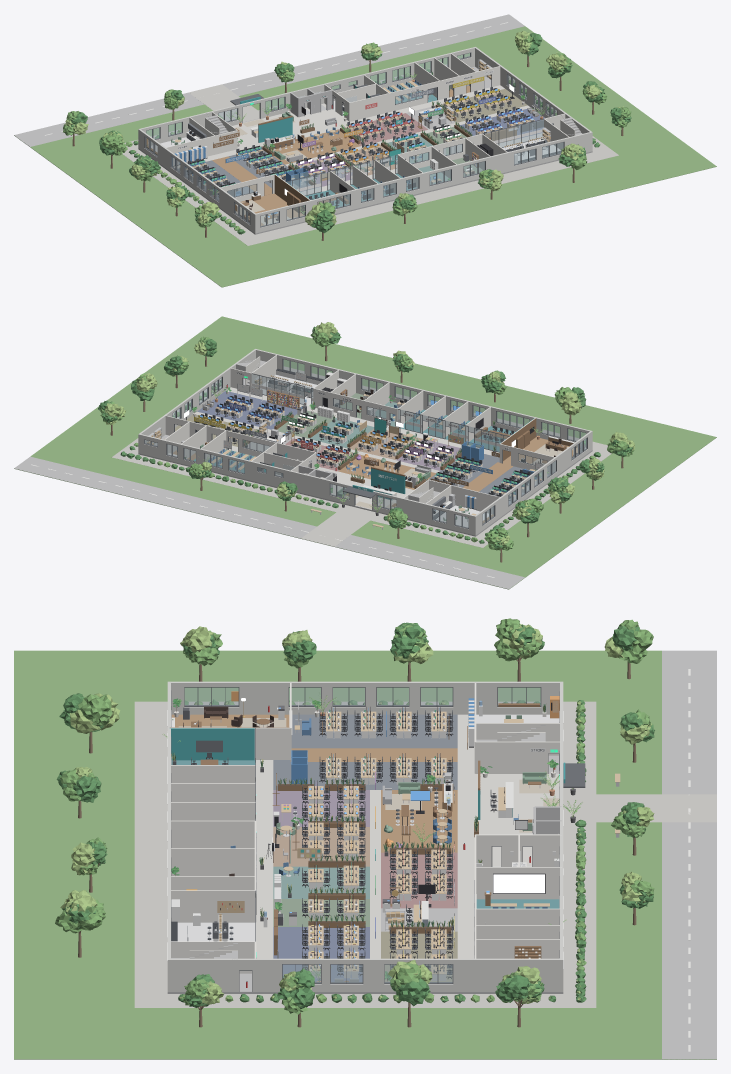
The model's file is office.glb.
3 views of the same model, one above another, from view 1: azimuth 30°, elevation 25°; view 2: azimuth 150°, elevation 25°; view 3: azimuth 270°, elevation 25° (orthographic). The views are drawn at different scales.
Visible parts, largest first — view 1: Site_grass, Exterior_Walls_wall_ext, Site_concrete, Site_paving, Exterior_Walls_glass, Site_tree_dark, Floor_floor_polished, Site_tree_light, Site_tree_mid, Exterior_Walls_frame, Partitions_wall, Floor_wood_floor (+27 smaller); view 2: Site_grass, Exterior_Walls_wall_ext, Site_concrete, Site_paving, Site_tree_dark, Exterior_Walls_glass, Partitions_wall, Site_tree_mid, Site_tree_light, Exterior_Walls_frame, Floor_floor_polished, Floor_wood_floor (+27 smaller); view 3: Site_grass, Site_paving, Site_concrete, Exterior_Walls_wall_ext, Partitions_wall, Floor_floor_polished, Site_tree_dark, Site_tree_mid, Site_tree_light, Floor_carpet, Exterior_Walls_glass, Floor_wood_floor (+33 smaller).
Part boxes in pixels (<box>): Site_grass: <box>14,26,716,287</box>; Exterior_Walls_wall_ext: <box>138,47,592,233</box>; Site_concrete: <box>14,14,524,146</box>; Site_paving: <box>122,64,618,245</box>; Exterior_Walls_glass: <box>145,53,563,226</box>; Site_tree_dark: <box>66,33,631,234</box>; Floor_floor_polished: <box>173,85,543,195</box>; Site_tree_light: <box>65,31,623,231</box>; Site_tree_mid: <box>63,35,631,230</box>; Exterior_Walls_frame: <box>144,52,564,227</box>; Partitions_wall: <box>275,119,568,202</box>; Floor_wood_floor: <box>212,86,470,225</box>; Site_grass: <box>14,316,716,589</box>; Exterior_Walls_wall_ext: <box>138,349,592,535</box>; Site_concrete: <box>14,456,524,588</box>; Site_paving: <box>112,366,611,547</box>; Site_tree_dark: <box>98,326,633,548</box>; Exterior_Walls_glass: <box>144,359,586,527</box>; Partitions_wall: <box>252,355,535,462</box>; Site_tree_mid: <box>100,327,634,550</box>; Site_tree_light: <box>104,322,634,545</box>; Exterior_Walls_frame: <box>144,358,587,528</box>; Floor_floor_polished: <box>196,387,499,509</box>; Floor_wood_floor: <box>173,437,577,491</box>; Site_grass: <box>14,650,716,1059</box>; Site_paving: <box>134,701,716,1007</box>; Site_concrete: <box>662,650,716,1059</box>; Exterior_Walls_wall_ext: <box>167,681,563,991</box>; Partitions_wall: <box>171,727,290,973</box>; Floor_floor_polished: <box>256,714,559,958</box>; Site_tree_dark: <box>56,622,654,1008</box>; Site_tree_mid: <box>55,618,654,1014</box>; Site_tree_light: <box>60,624,654,1004</box>; Floor_carpet: <box>273,714,457,789</box>; Exterior_Walls_glass: <box>184,687,540,982</box>; Floor_wood_floor: <box>171,714,457,852</box>.
Size of the model in its own units: 88 by 6.64 by 64.
